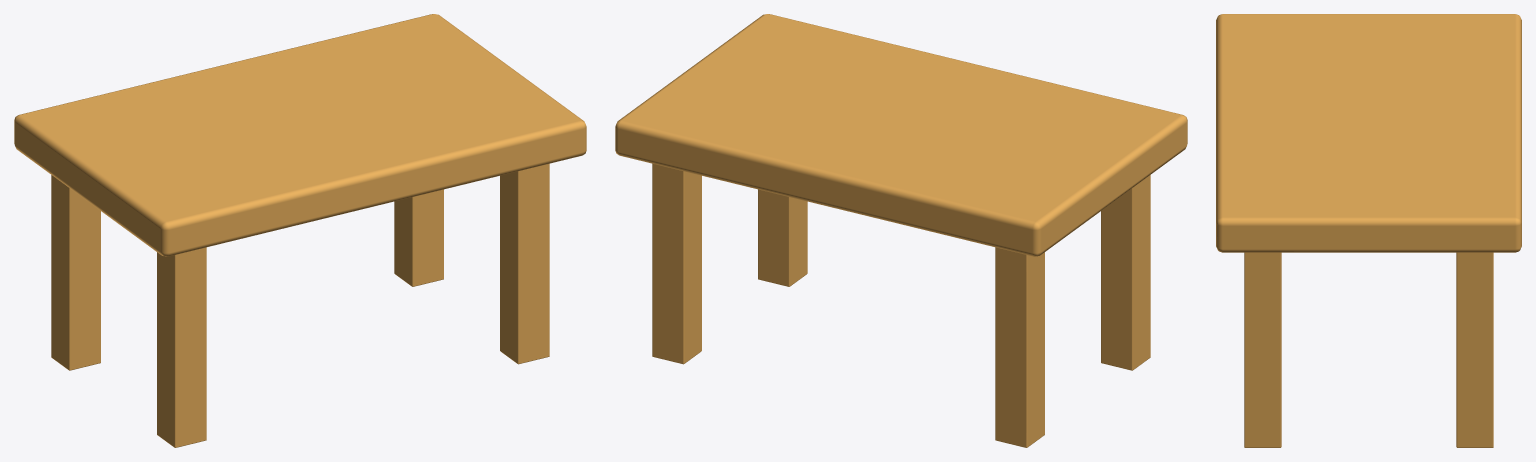
File: table 1.fbx
The picture shows the model from 3 angles, left to right: view 1: azimuth 30°, elevation 25°; view 2: azimuth 150°, elevation 25°; view 3: azimuth 270°, elevation 25°; orthographic projection.
Parts seen in each view (by area): view 1: Plane.008, Plane.009; view 2: Plane.008, Plane.009; view 3: Plane.008, Plane.009.
Boxes of the visible parts, x1=… form: Plane.008: x1=14, y1=14, x2=586, y2=256; Plane.009: x1=51, y1=163, x2=549, y2=447; Plane.008: x1=615, y1=14, x2=1187, y2=256; Plane.009: x1=652, y1=163, x2=1150, y2=447; Plane.008: x1=1216, y1=14, x2=1521, y2=252; Plane.009: x1=1244, y1=252, x2=1493, y2=447.
Size of the model in its own units: 363 by 195 by 225.
